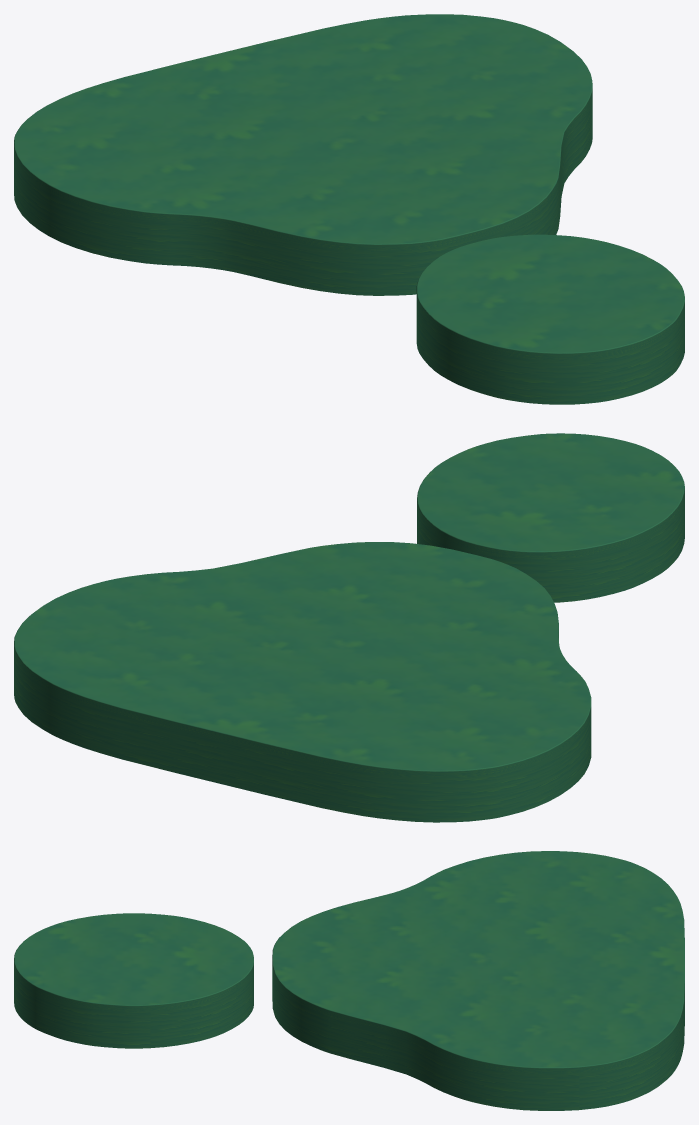
The model's file is doubleisland_island.glb.
3 renders of one model, top to bottom at view 1: azimuth 30°, elevation 25°; view 2: azimuth 150°, elevation 25°; view 3: azimuth 270°, elevation 25°, orthographic. The views are drawn at different scales.
Parts seen in each view (by area): view 1: geometry_0; view 2: geometry_0; view 3: geometry_0.
Part boxes in pixels (bbox=[...]): geometry_0: bbox=[14, 14, 684, 404]; geometry_0: bbox=[14, 433, 684, 822]; geometry_0: bbox=[14, 851, 684, 1110].
Bounding box in the file's own units: 64.62 × 6 × 84.45.
Materials: 1 (1 with a texture image).
